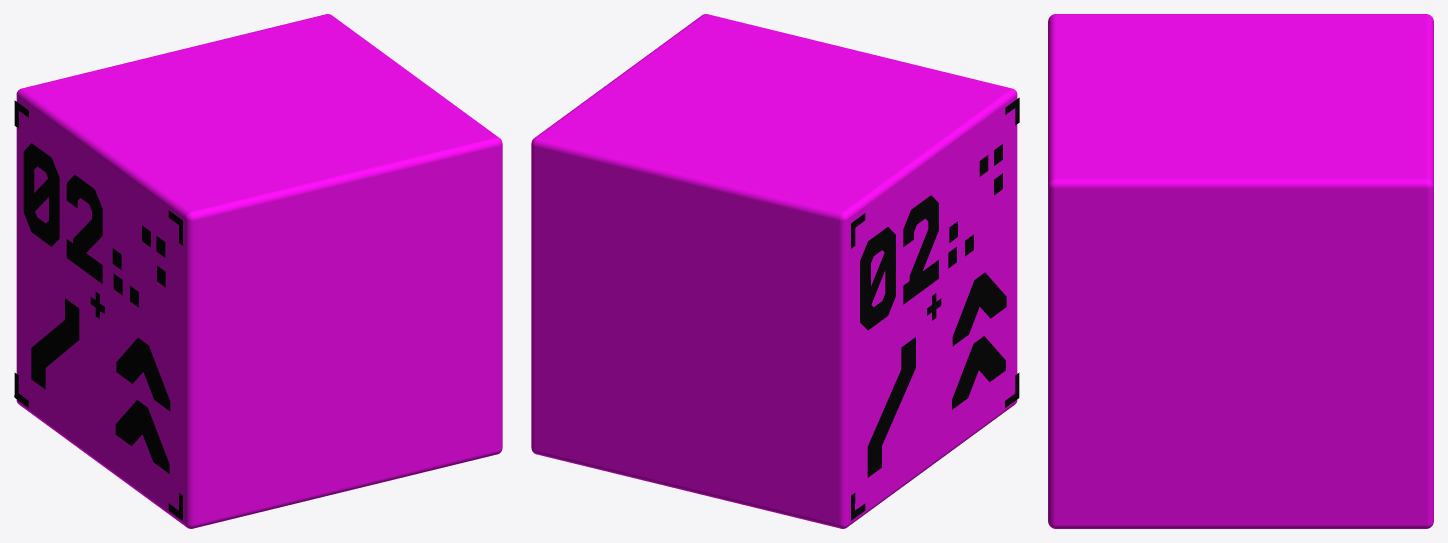
3 views of the same model, side by side, from view 1: azimuth 30°, elevation 25°; view 2: azimuth 150°, elevation 25°; view 3: azimuth 270°, elevation 25° (orthographic). The views are drawn at different scales.
Parts seen in each view (by area): view 1: Cube.005, Text.108, Text.128, Text.109, Text.120; view 2: Cube.005, Text.108, Text.128, Text.109, Text.120; view 3: Cube.005.
Part boxes in pixels (x1,y1,x2,y2): Cube.005: (16,14,502,528); Text.108: (23,143,102,283); Text.128: (31,298,79,389); Text.109: (116,338,170,411); Text.120: (115,400,169,473); Cube.005: (531,14,1017,528); Text.108: (860,195,938,330); Text.128: (867,337,915,477); Text.109: (952,272,1006,345); Text.120: (952,336,1005,409); Cube.005: (1048,14,1433,528).
Bounding box in the file's own units: 210 × 199 × 199.
